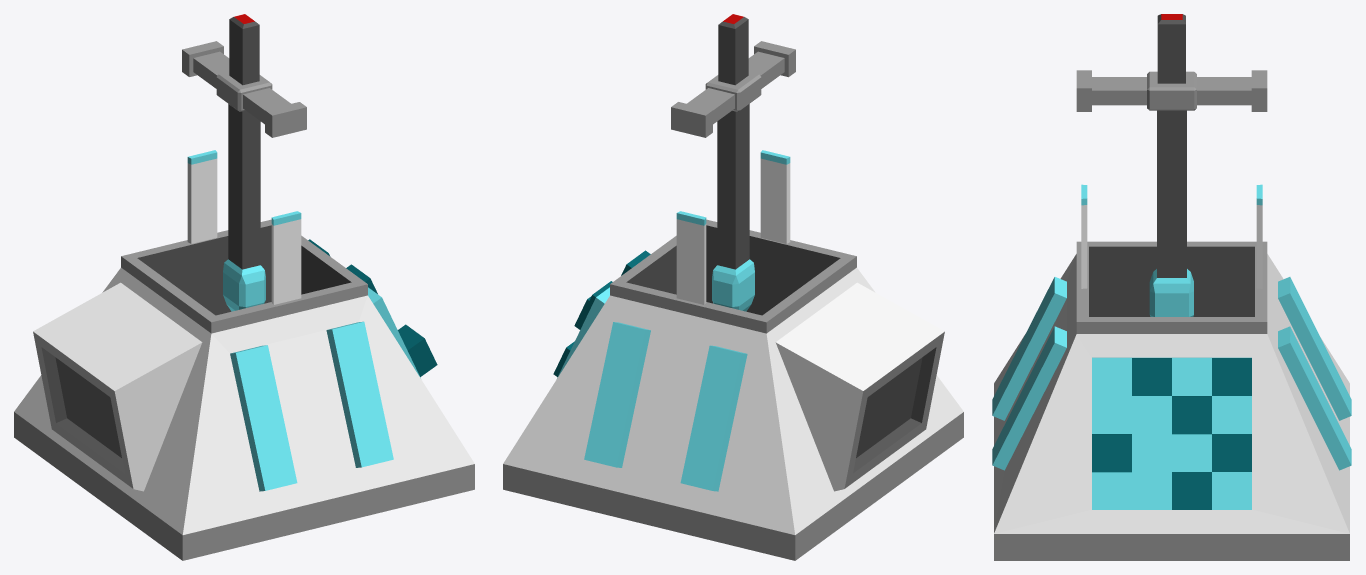
Rendered from boer_lvl_1.fbx.
3 views of the same model, side by side, from view 1: azimuth 30°, elevation 25°; view 2: azimuth 150°, elevation 25°; view 3: azimuth 270°, elevation 25° (orthographic). The views are drawn at different scales.
Visible parts, largest first — view 1: Cube.001, drill; view 2: Cube.001, drill; view 3: Cube.001, drill.
Boxes of the visible parts, x1,y1,x2,y2 form: Cube.001: [14, 150, 474, 560]; drill: [182, 14, 306, 311]; Cube.001: [503, 150, 963, 560]; drill: [671, 14, 795, 311]; Cube.001: [992, 184, 1351, 560]; drill: [1076, 14, 1267, 316].
Bounding box in the file's own units: 225 × 291 × 202.
